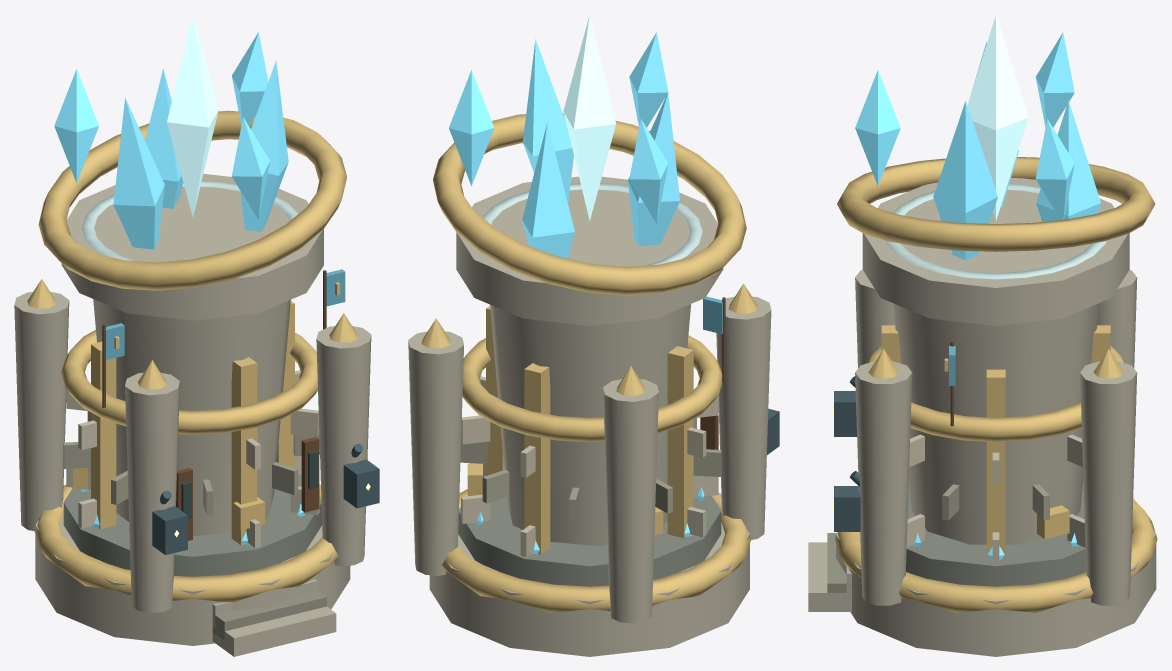
The model's file is tower-frost-3-base.glb.
3 views of the same model, side by side, from view 1: azimuth 30°, elevation 25°; view 2: azimuth 150°, elevation 25°; view 3: azimuth 270°, elevation 25° (orthographic).
Visible parts, largest first — view 1: Foundation, Turret, frost-L3-base; view 2: Foundation, Turret, frost-L3-base; view 3: Foundation, Turret, frost-L3-base.
Part boxes in pixels (x1,y1,x2,y2): Foundation: (14, 269, 379, 656); Turret: (38, 14, 346, 320); frost-L3-base: (35, 475, 350, 645); Foundation: (408, 283, 779, 623); Turret: (433, 14, 746, 325); frost-L3-base: (429, 495, 749, 656); Foundation: (808, 270, 1157, 612); Turret: (837, 14, 1155, 325); frost-L3-base: (836, 481, 1156, 656).
Bounding box in the file's own units: 1.69 × 3.33 × 1.83.
